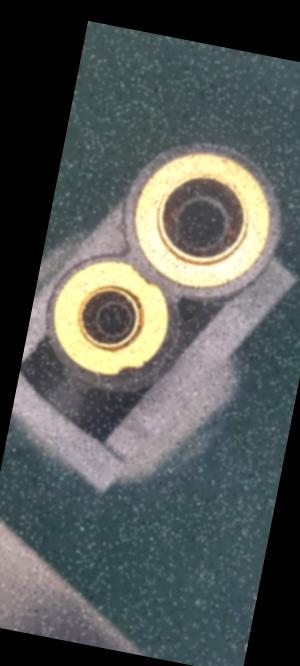bump: (112, 355, 151, 383), (124, 264, 155, 288)
